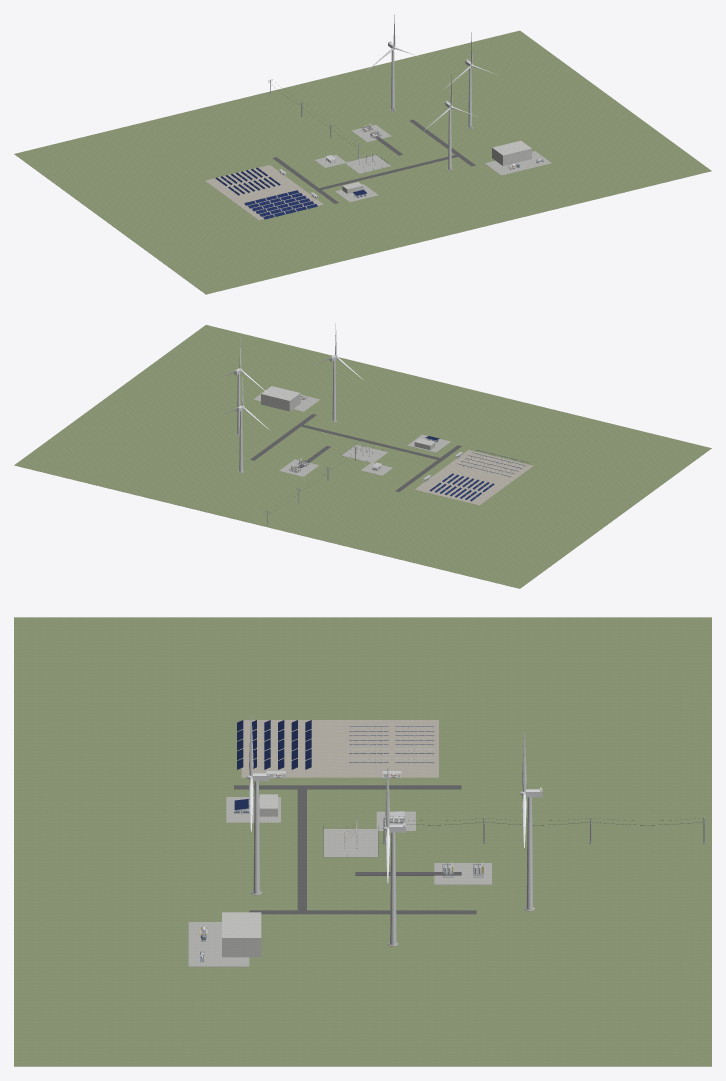
The model's file is plant-renewables.glb.
3 views of the same model, one above another, from view 1: azimuth 30°, elevation 25°; view 2: azimuth 150°, elevation 25°; view 3: azimuth 270°, elevation 25° (orthographic). The views are drawn at different scales.
Parts seen in each view (by area): view 1: ENV_Grass, ENV_Ground, ENV_Factory, ENV_Pad.003, ENV_Pad; view 2: ENV_Grass, ENV_Ground, ENV_Factory, ENV_Pad; view 3: ENV_Grass, ENV_Ground, ENV_Factory, ENV_Pad.003, ENV_Pad, ENV_Pad.002, ENV_Road, ENV_Road.003, ENV_Road.002, ENV_Pad.004, ENV_Tower1.
Boxes of the visible parts, <box> form: ENV_Grass: <box>14,30,711,294</box>; ENV_Ground: <box>205,165,323,220</box>; ENV_Factory: <box>492,140,531,165</box>; ENV_Pad.003: <box>485,151,551,175</box>; ENV_Pad: <box>345,155,390,173</box>; ENV_Grass: <box>14,325,711,588</box>; ENV_Ground: <box>415,450,533,505</box>; ENV_Factory: <box>261,386,300,411</box>; ENV_Pad: <box>342,444,387,462</box>; ENV_Grass: <box>14,617,711,1066</box>; ENV_Ground: <box>241,720,438,777</box>; ENV_Factory: <box>222,912,261,957</box>; ENV_Pad.003: <box>188,922,249,966</box>; ENV_Pad: <box>323,829,377,857</box>; ENV_Pad.002: <box>434,863,491,884</box>; ENV_Road: <box>234,785,461,789</box>; ENV_Road.003: <box>249,910,476,914</box>; ENV_Road.002: <box>297,835,306,912</box>; ENV_Pad.004: <box>226,797,280,822</box>; ENV_Tower1: <box>390,832,396,945</box>.
Size of the model in its own units: 700 by 130 by 460.
Materials: 228 (226 with a texture image).
